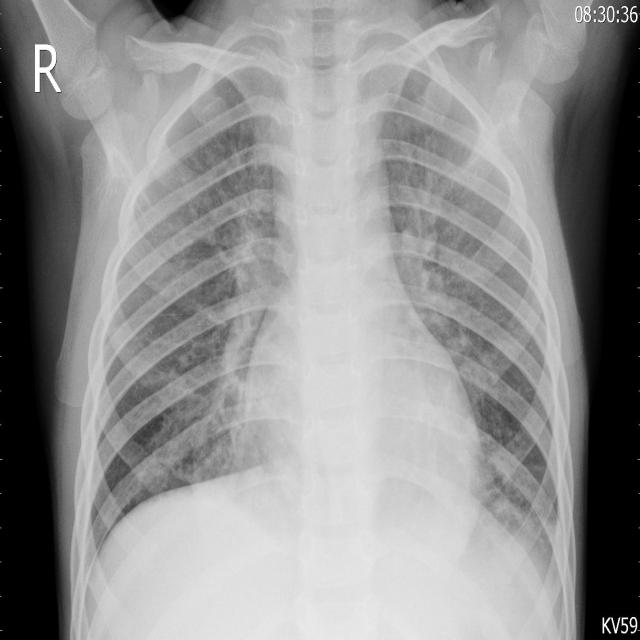low-pneumonia: (186, 195, 280, 483), (395, 127, 489, 369)
